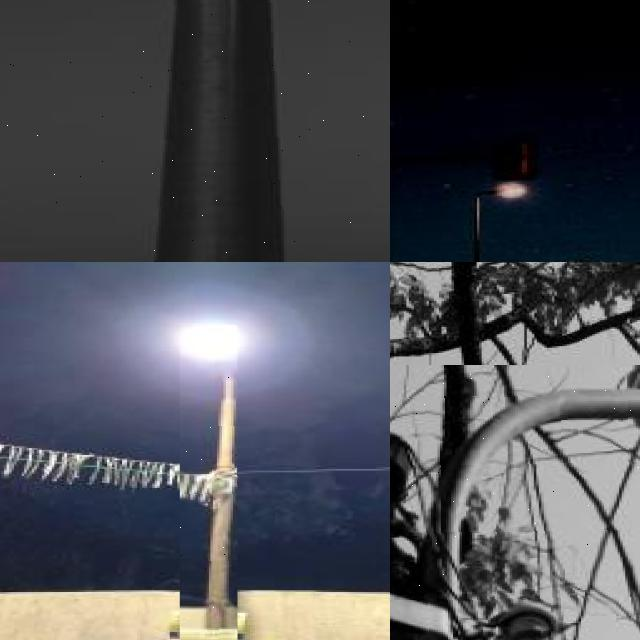street light: (0, 0, 390, 262), (390, 365, 640, 640), (179, 325, 237, 640), (474, 187, 523, 262)
